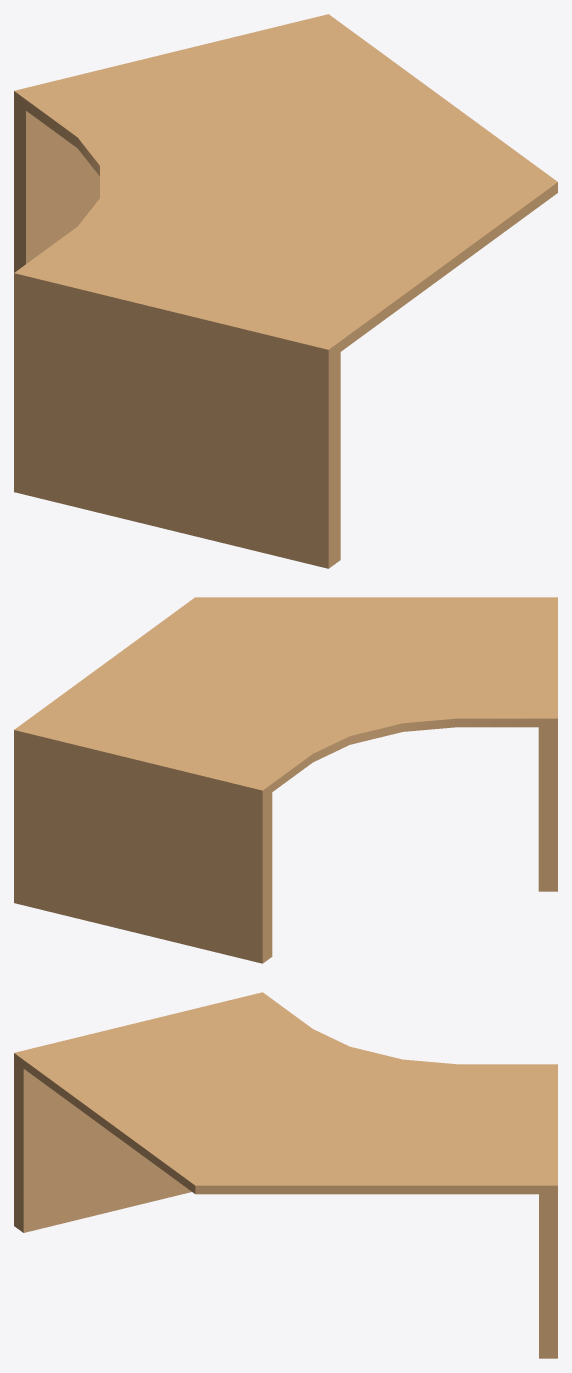
The model's file is table02.fbx.
The picture shows the model from 3 angles, top to bottom: view 1: azimuth 30°, elevation 25°; view 2: azimuth 150°, elevation 25°; view 3: azimuth 270°, elevation 25°; orthographic projection. The views are drawn at different scales.
Visible parts, largest first — view 1: Table; view 2: Table; view 3: Table.
Part boxes in pixels (x1,y1,x2,y2): Table: (14, 14, 557, 568); Table: (14, 597, 557, 963); Table: (14, 992, 557, 1358).
Bounding box in the file's own units: 2.4 × 1 × 2.85.
